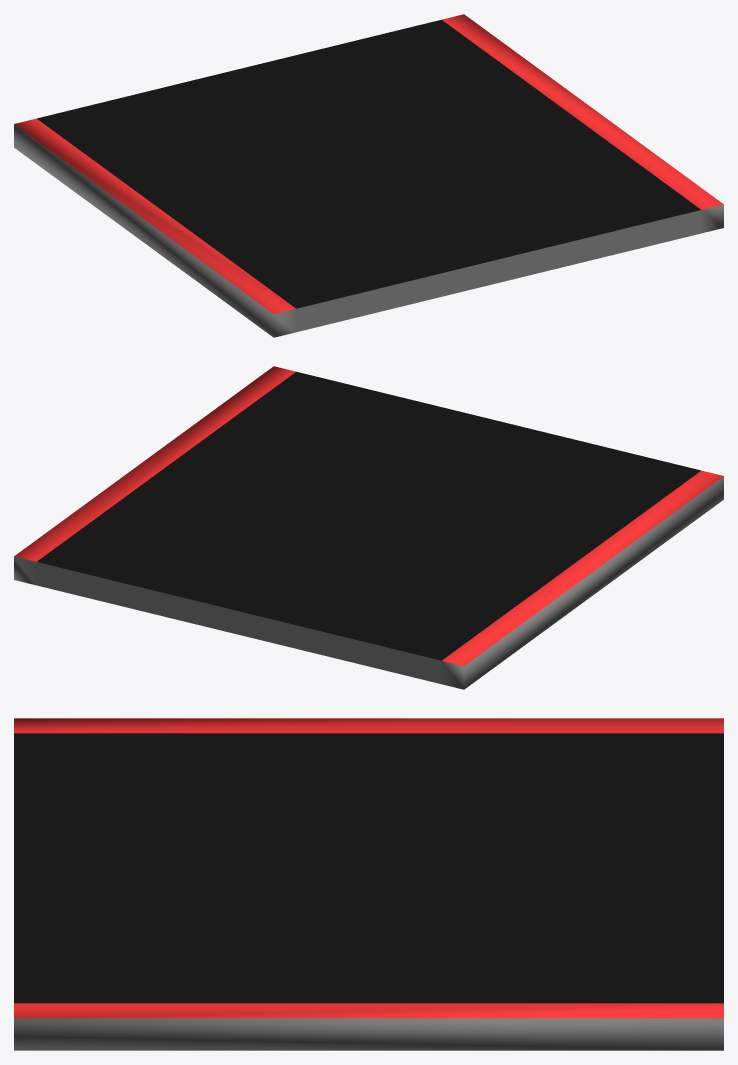
File: Streckenmodul_-_Gerade.fbx
3 renders of one model, top to bottom at view 1: azimuth 30°, elevation 25°; view 2: azimuth 150°, elevation 25°; view 3: azimuth 270°, elevation 25°, orthographic. The views are drawn at different scales.
Parts seen in each view (by area): view 1: Streckenmodul - Gerade; view 2: Streckenmodul - Gerade; view 3: Streckenmodul - Gerade.
Part boxes in pixels (bbox=[...]): Streckenmodul - Gerade: bbox=[14, 14, 723, 337]; Streckenmodul - Gerade: bbox=[14, 366, 723, 689]; Streckenmodul - Gerade: bbox=[14, 718, 723, 1050].
Bounding box in the file's own units: 394 × 19.69 × 394.
